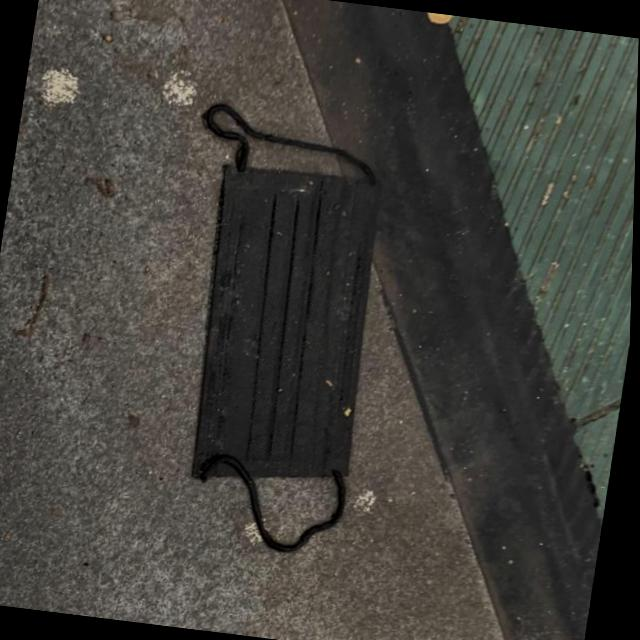Mask: (140, 98, 406, 562)
